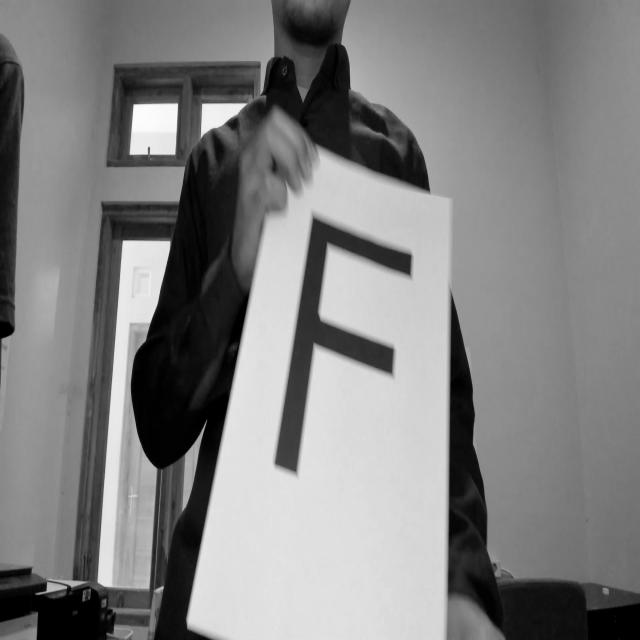f: (270, 200, 418, 499)
